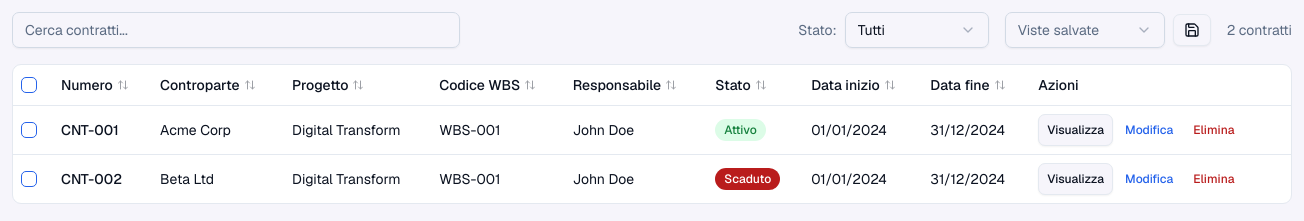
ContractTable › renders the status filter select with all options
The image size is (1304, 221).
Click the dropdown named "filtra per stato".
click(917, 30)  # box top-left (845, 12), bottom-right (989, 48)
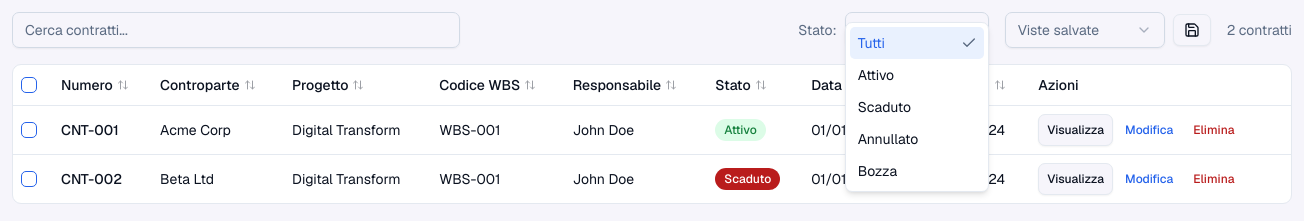
Result: the option "Attivo" is shown at top-left (858, 66), bottom-right (894, 84)
